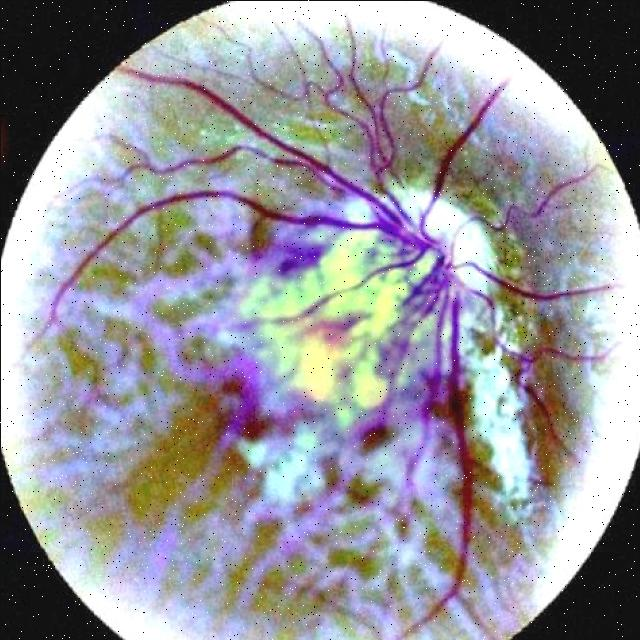Nerves: (47, 31, 613, 629), (493, 327, 602, 416), (467, 163, 598, 230)
